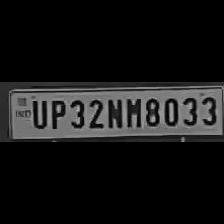0: (160, 94, 180, 126)
2: (86, 95, 104, 129)
3: (66, 96, 86, 130), (198, 93, 218, 126), (180, 93, 198, 126)
8: (142, 94, 160, 128)
M: (122, 96, 142, 128)
N: (105, 95, 123, 129)
P: (46, 96, 66, 130)
U: (29, 97, 47, 129)
